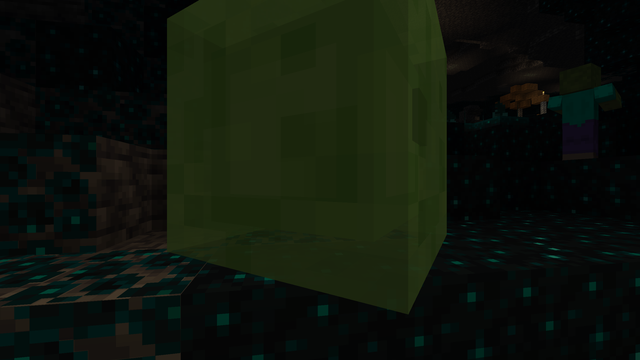slimes: (169, 0, 509, 298)
zombies: (553, 65, 607, 142)
